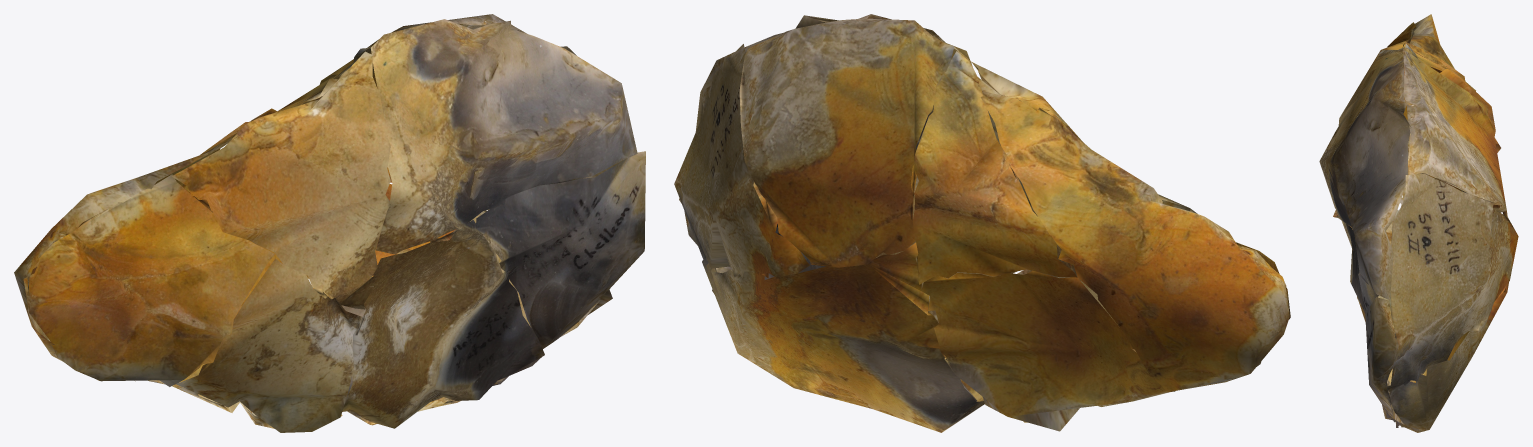
Rendered from hand_axe.glb.
3 renders of one model, left to right at view 1: azimuth 30°, elevation 25°; view 2: azimuth 150°, elevation 25°; view 3: azimuth 270°, elevation 25°, orthographic. The views are drawn at different scales.
Visible parts, largest first — view 1: Object_2; view 2: Object_2; view 3: Object_2.
Part boxes in pixels (box(x1,y1,x2,y2)): Object_2: box(14, 14, 645, 432); Object_2: box(674, 14, 1290, 432); Object_2: box(1319, 14, 1518, 432).
Size of the model in its own units: 0.1592 by 0.0981 by 0.0507.
Materials: 1 (1 with a texture image).
